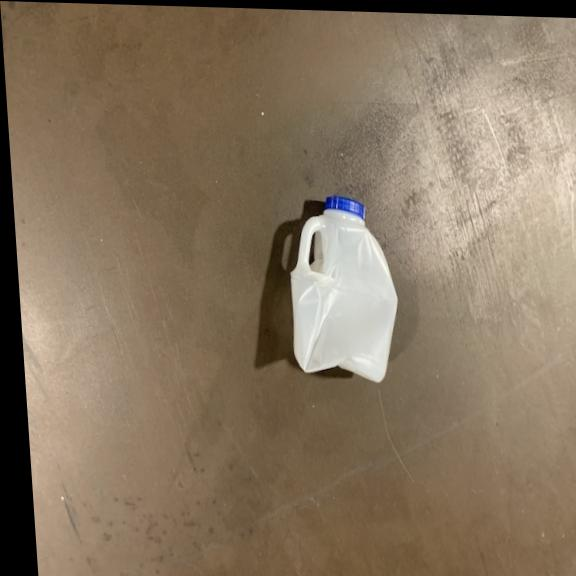Plastik: (279, 185, 406, 385)
